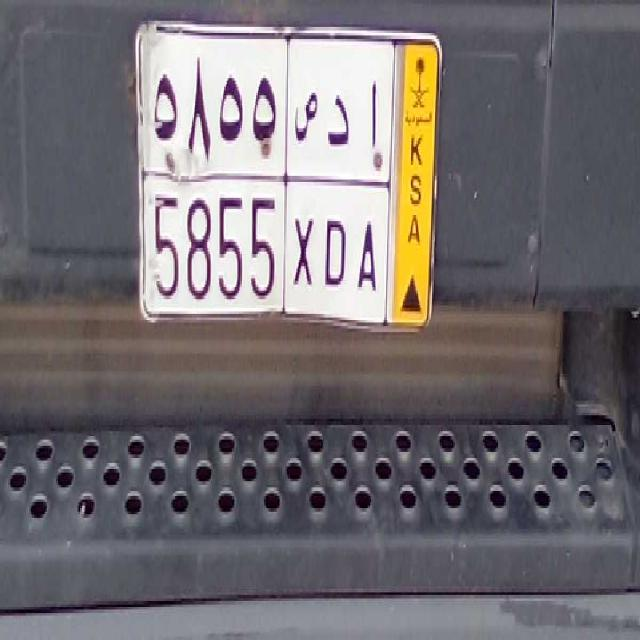license_plate: (140, 169, 391, 328)
